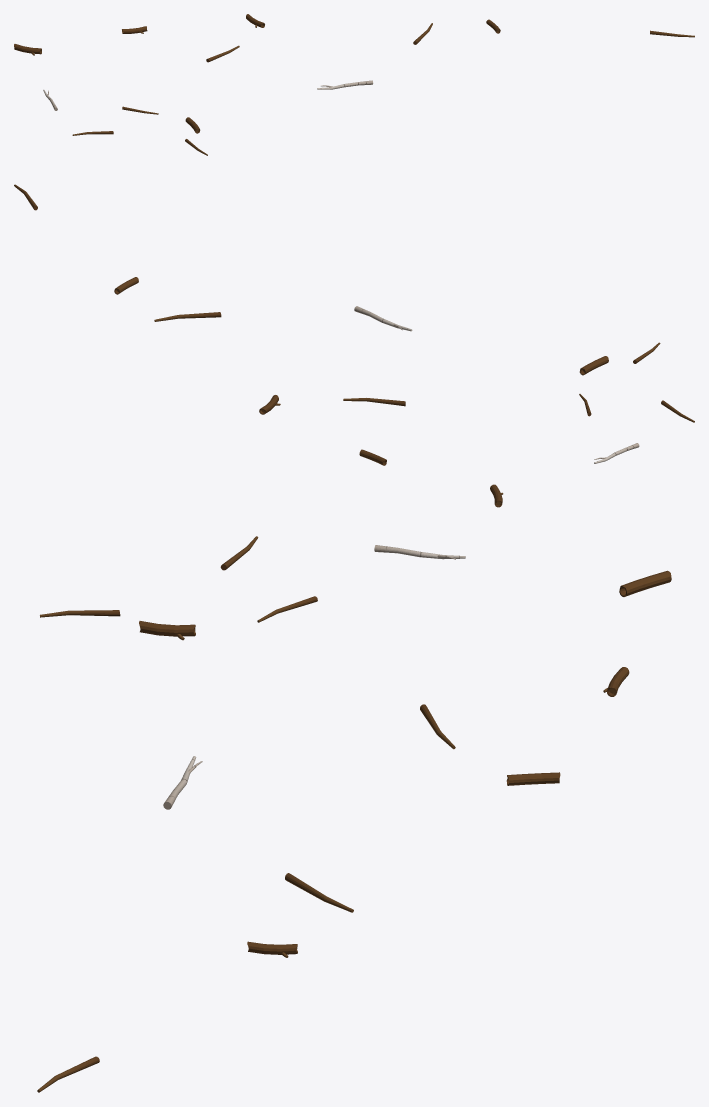
File: Branches5.gltf
The picture shows the model from 3 angles, top to bottom: view 1: azimuth 30°, elevation 25°; view 2: azimuth 150°, elevation 25°; view 3: azimuth 270°, elevation 25°; orthographic projection. The views are drawn at different scales.
Size of the model in its own units: 37.49 by 0.3653 by 18.13.
Materials: 3 (3 with a texture image).
